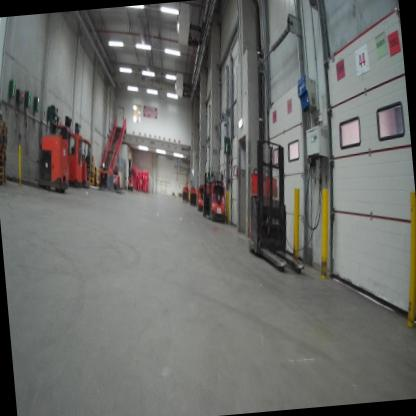forklift: (0, 99, 76, 197), (64, 116, 98, 205), (57, 111, 86, 192)
pallet: (0, 131, 8, 143), (0, 136, 7, 148), (0, 162, 7, 173), (0, 116, 6, 128), (0, 125, 7, 135), (0, 158, 7, 167), (0, 144, 6, 154), (0, 150, 7, 158), (0, 172, 7, 180), (0, 179, 8, 186)
pallet_truck: (203, 168, 232, 228), (88, 148, 115, 196), (194, 173, 212, 216), (108, 161, 126, 201), (178, 182, 193, 207), (187, 183, 201, 209), (123, 165, 136, 192)
